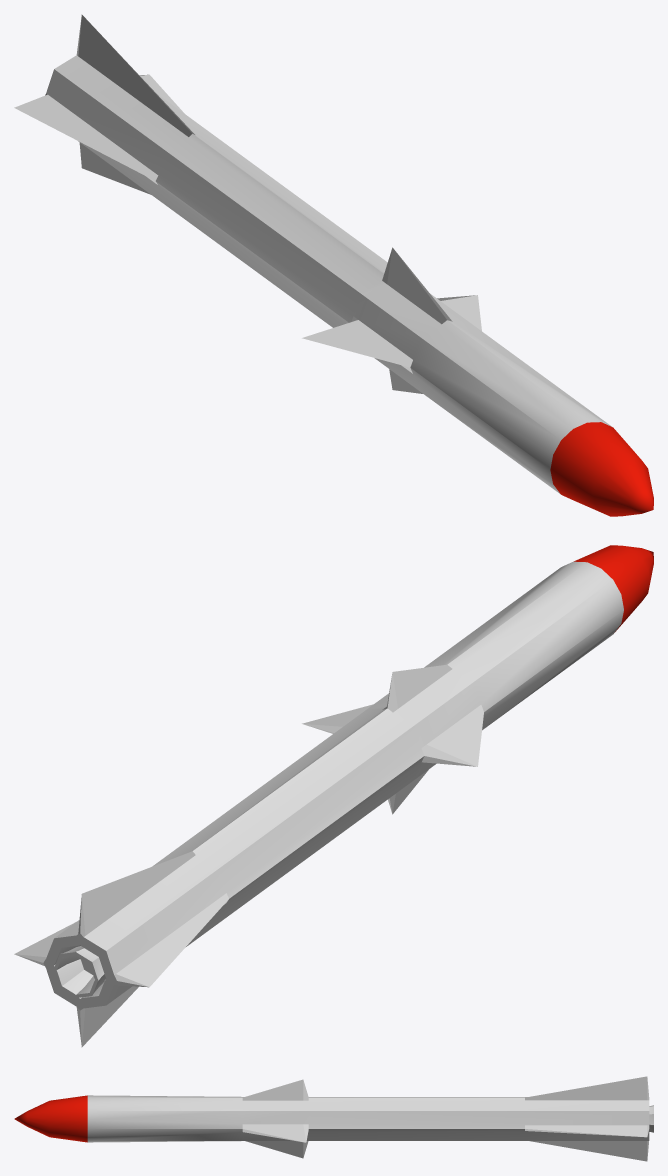
The model's file is UsaDefaultMissle.fbx.
The picture shows the model from 3 angles, top to bottom: view 1: azimuth 30°, elevation 25°; view 2: azimuth 150°, elevation 25°; view 3: azimuth 270°, elevation 25°; orthographic projection. The views are drawn at different scales.
Parts seen in each view (by area): view 1: Cylinder; view 2: Cylinder; view 3: Cylinder.
Boxes of the visible parts, left/top/right/bottom form: Cylinder: left=14, top=14, right=653, bottom=516; Cylinder: left=14, top=545, right=653, bottom=1047; Cylinder: left=14, top=1076, right=653, bottom=1161.
Bounding box in the file's own units: 479 × 399 × 2715.
